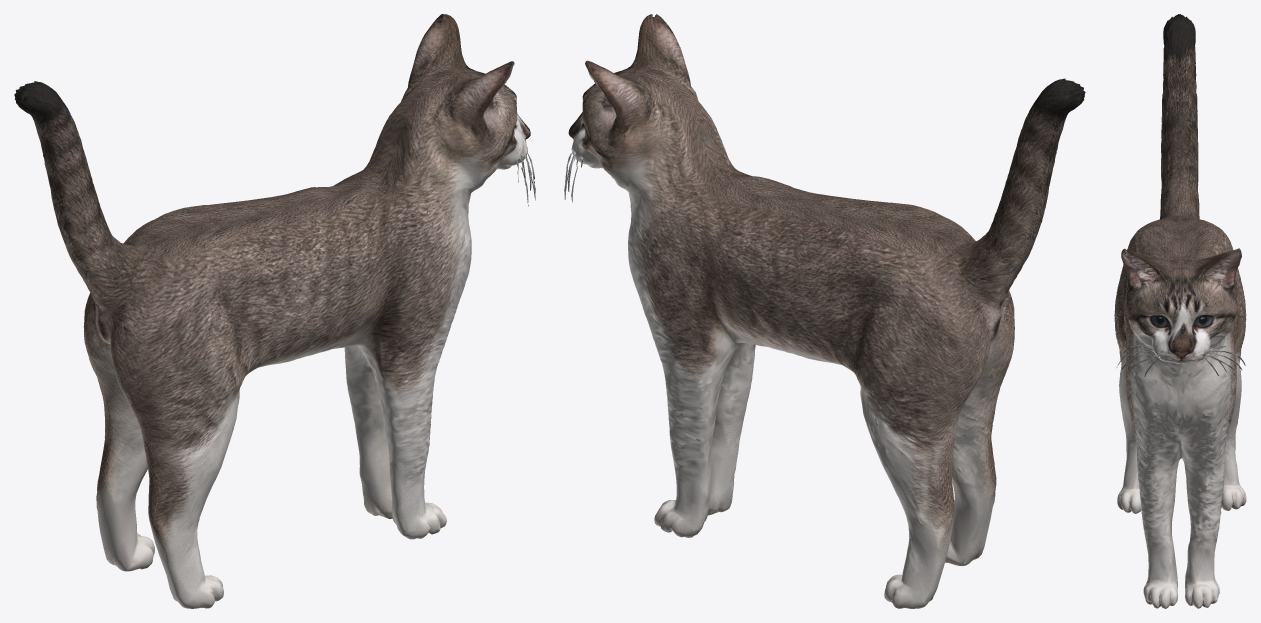
The model's file is PIENMINT.glb.
3 views of the same model, side by side, from view 1: azimuth 30°, elevation 25°; view 2: azimuth 150°, elevation 25°; view 3: azimuth 270°, elevation 25° (orthographic). The views are drawn at different scales.
Visible parts, largest first — view 1: tripo_node_801e3b50-709e-4ac8-a030-aa6dfe787b35; view 2: tripo_node_801e3b50-709e-4ac8-a030-aa6dfe787b35; view 3: tripo_node_801e3b50-709e-4ac8-a030-aa6dfe787b35.
Part boxes in pixels (x1,y1,x2,y2): tripo_node_801e3b50-709e-4ac8-a030-aa6dfe787b35: [14, 14, 535, 608]; tripo_node_801e3b50-709e-4ac8-a030-aa6dfe787b35: [564, 14, 1085, 608]; tripo_node_801e3b50-709e-4ac8-a030-aa6dfe787b35: [1114, 14, 1246, 608].
Bounding box in the file's own units: 1 × 0.9997 × 0.2731.
1 material, 1 textured.
